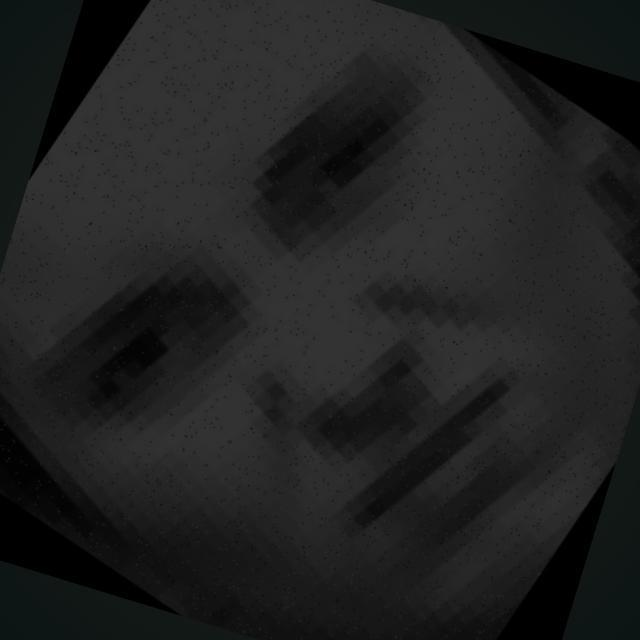Disgust: (43, 56, 617, 569)
